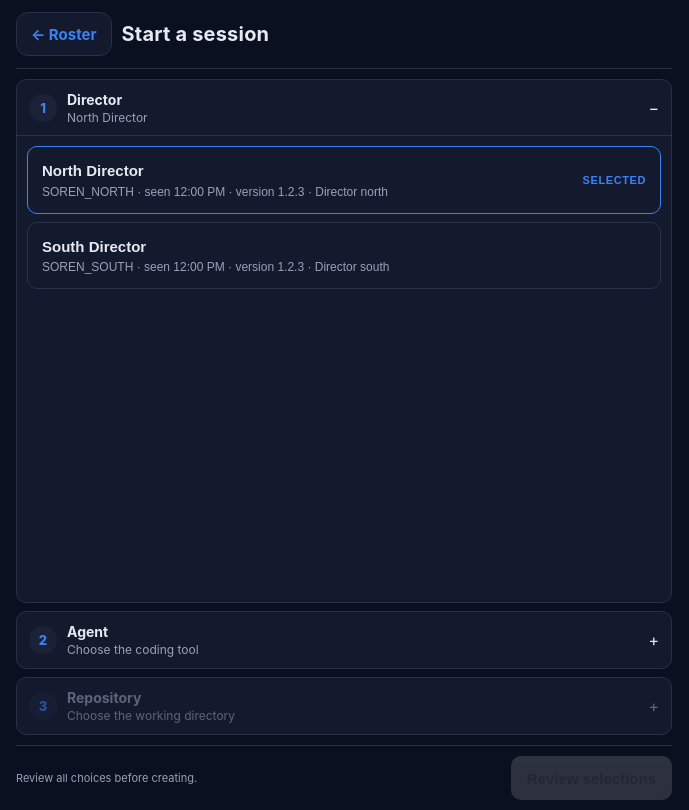
Test case: mobile new session › ignores late agent and repository responses from a previous Director
The image size is (689, 810).
Click the button with aria-label "Select Director South Director".
click(94, 246)  # box [28,222,660,288]
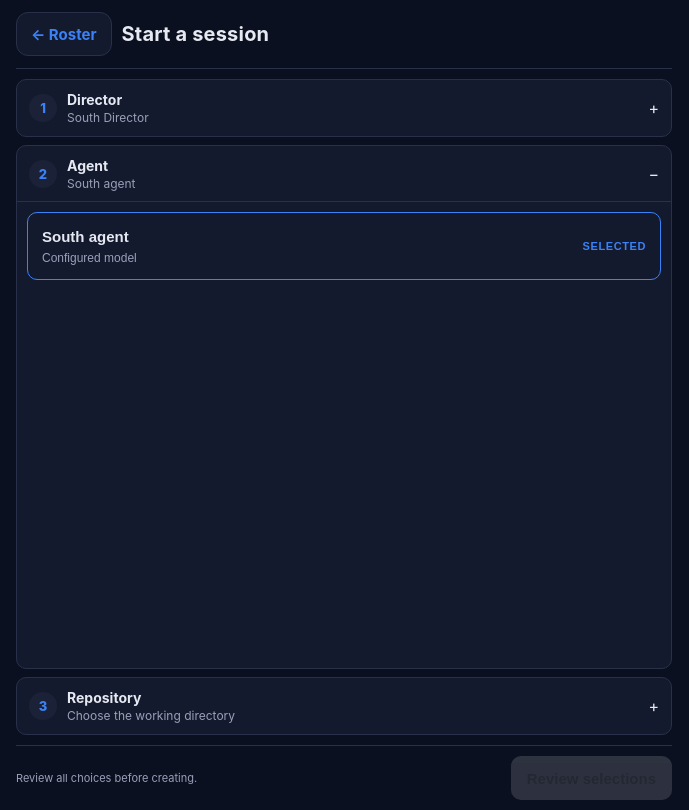
Now the button with aria-label "Select agent South agent" is shown, box [28,213,660,278]
